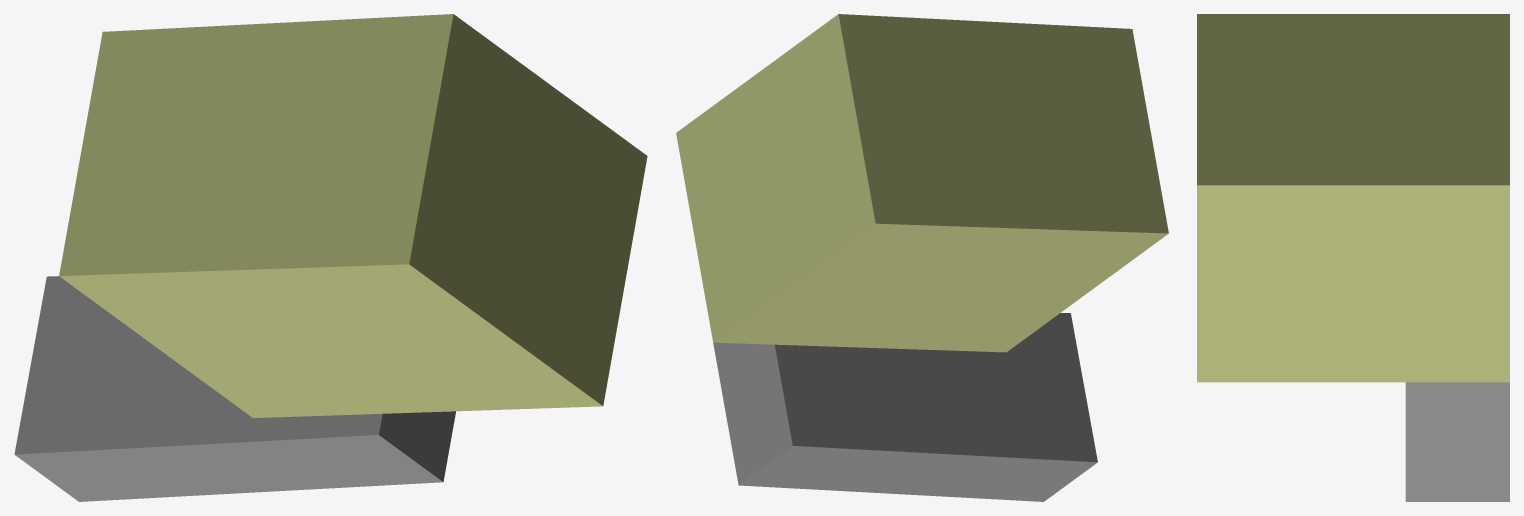
3 views of the same model, side by side, from view 1: azimuth 30°, elevation 25°; view 2: azimuth 150°, elevation 25°; view 3: azimuth 270°, elevation 25° (orthographic). The views are drawn at different scales.
Parts seen in each view (by area): view 1: 0_1_2_0_3_3_2_1_0_3_2; view 2: 0_1_2_0_3_3_2_1_0_3_2; view 3: 0_1_2_0_3_3_2_1_0_3_2.
Boxes of the visible parts, left/top/right/bottom form: 0_1_2_0_3_3_2_1_0_3_2: left=14, top=14, right=647, bottom=501; 0_1_2_0_3_3_2_1_0_3_2: left=676, top=14, right=1168, bottom=501; 0_1_2_0_3_3_2_1_0_3_2: left=1197, top=14, right=1509, bottom=501.
Bounding box in the file's own units: 11.76 × 12.04 × 9.
